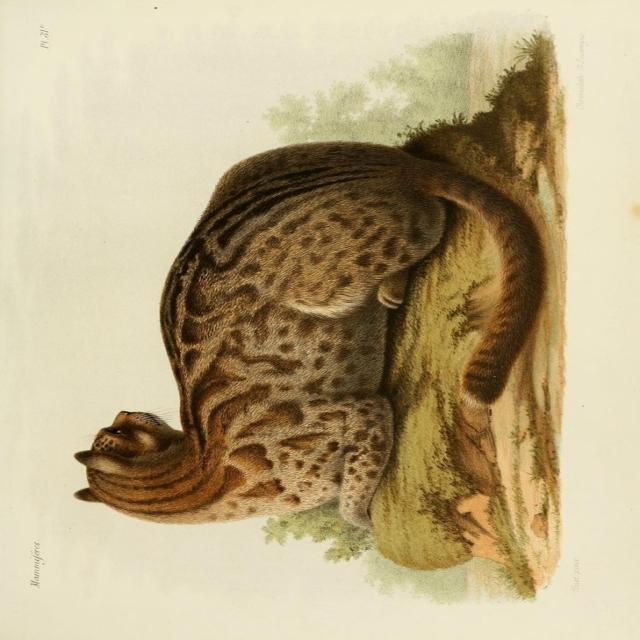Cheetah: (68, 132, 543, 530)
